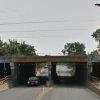Bridge: (6, 41, 92, 75)
